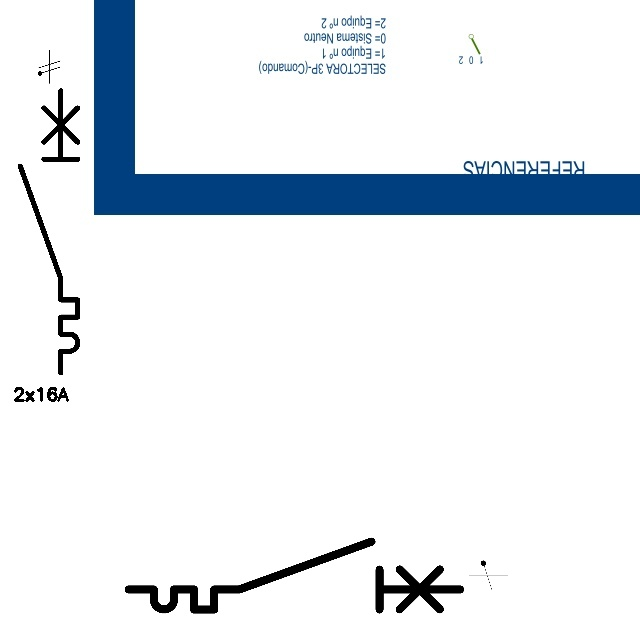interruptor_termomagnetico: (120, 533, 468, 618), (13, 83, 85, 379)
